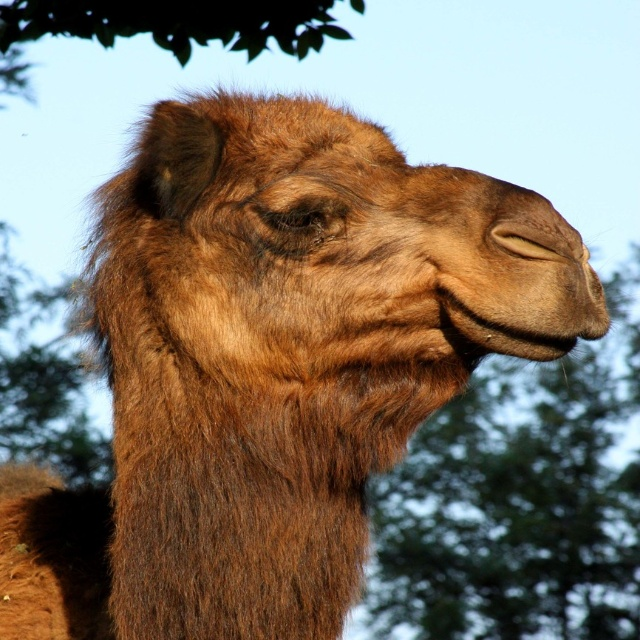Camel: (0, 69, 640, 640)
